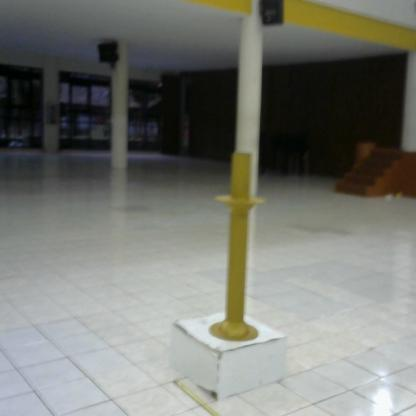pole: (211, 146, 268, 353)
